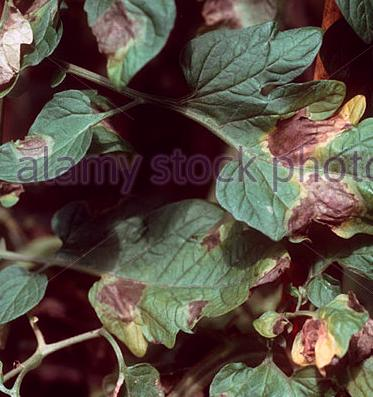Tomato leaf late blight: (174, 23, 373, 249), (48, 194, 294, 349), (254, 274, 373, 378), (0, 87, 106, 198), (0, 0, 76, 94)
